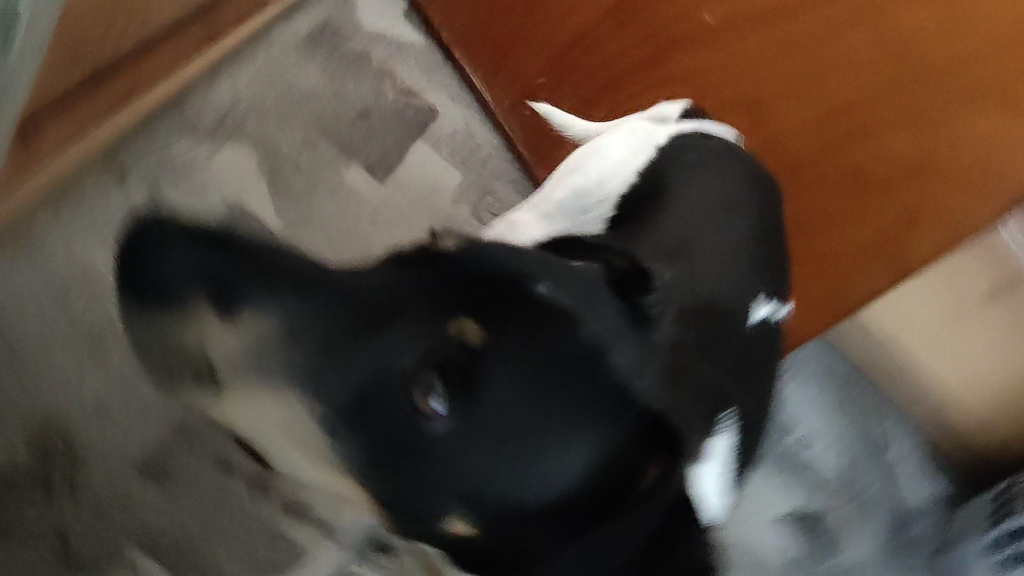Dog: (85, 65, 814, 576)
